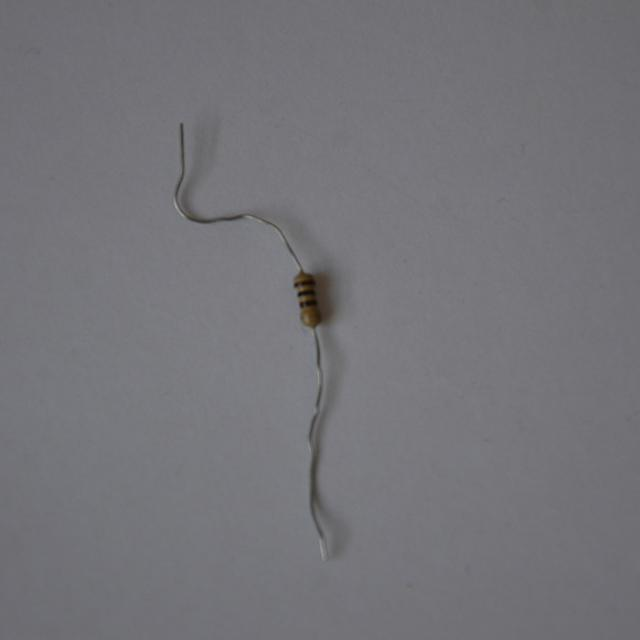black: (297, 291, 315, 297)
brown: (293, 280, 314, 287), (300, 300, 316, 307)
gold: (301, 310, 319, 318)
resistor: (287, 268, 326, 335)
